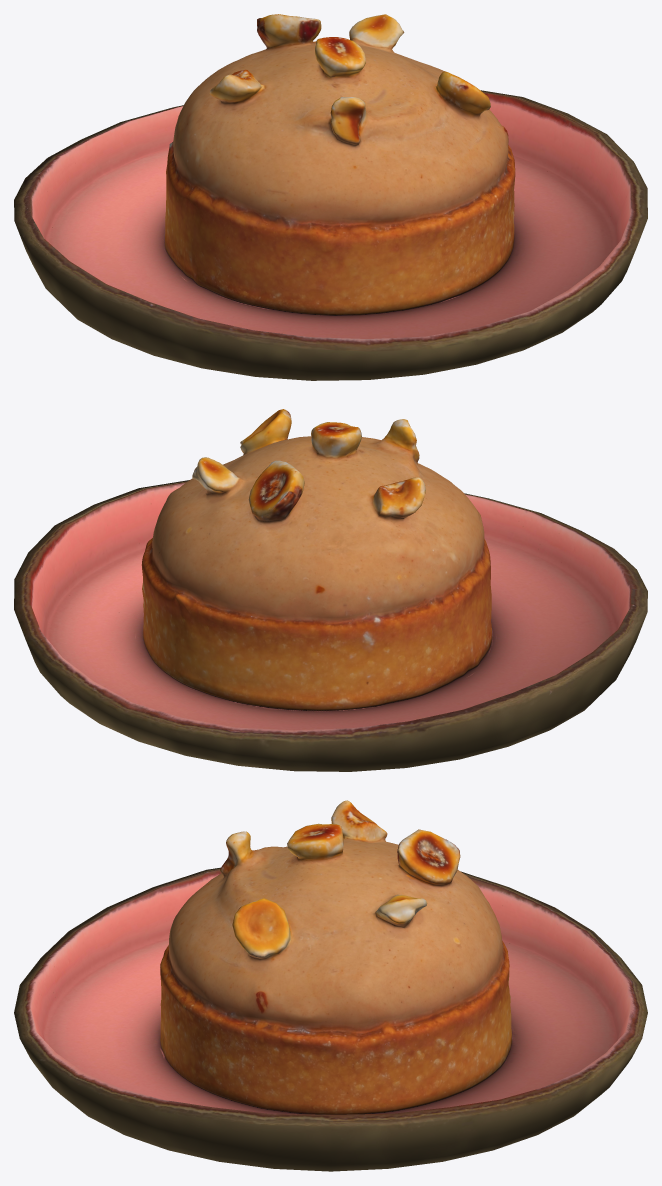
Rendered from 01_Gateau_praline.glb.
3 views of the same model, one above another, from view 1: azimuth 30°, elevation 25°; view 2: azimuth 150°, elevation 25°; view 3: azimuth 270°, elevation 25° (orthographic).
Parts seen in each view (by area): view 1: Principal, Plate; view 2: Principal, Plate; view 3: Principal, Plate.
Part boxes in pixels (x1=…): Principal: x1=164, y1=14, x2=515, y2=314; Plate: x1=14, y1=90, x2=647, y2=380; Principal: x1=141, y1=409, x2=492, y2=710; Plate: x1=14, y1=480, x2=647, y2=771; Principal: x1=160, y1=800, x2=511, y2=1114; Plate: x1=14, y1=867, x2=647, y2=1171.
Size of the model in its own units: 0.4006 by 0.1538 by 0.3971.
2 materials, 2 textured.
